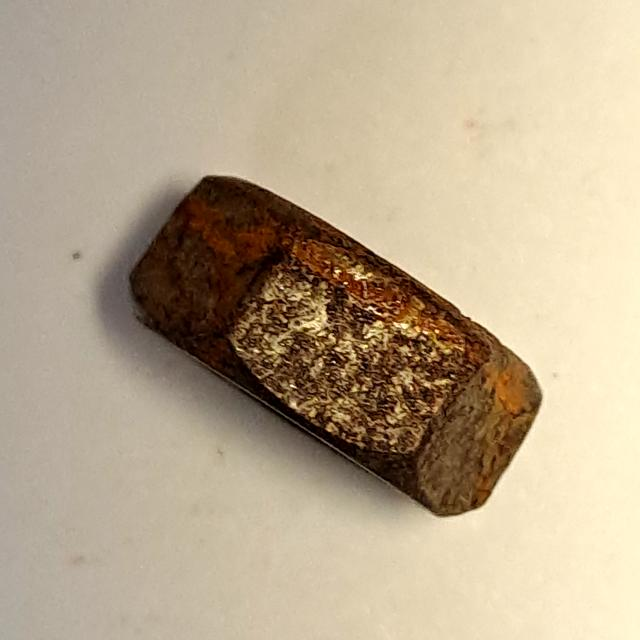Side_Rust: (103, 147, 563, 537)
